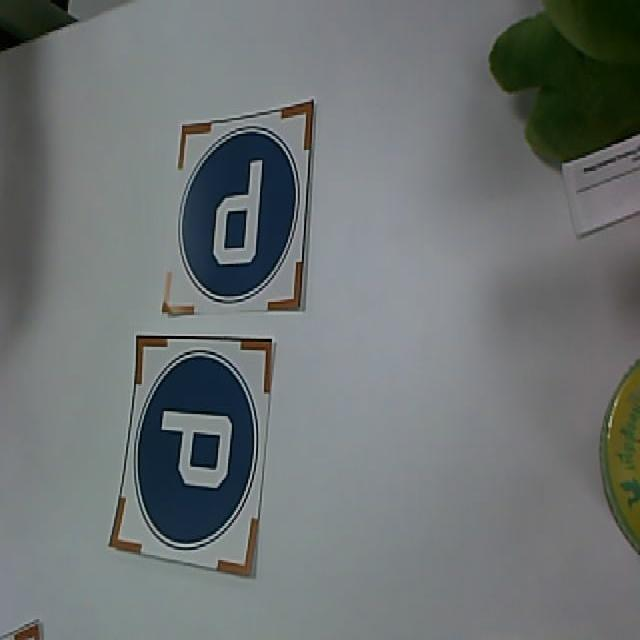parking: (114, 336, 272, 582), (166, 101, 306, 309)
